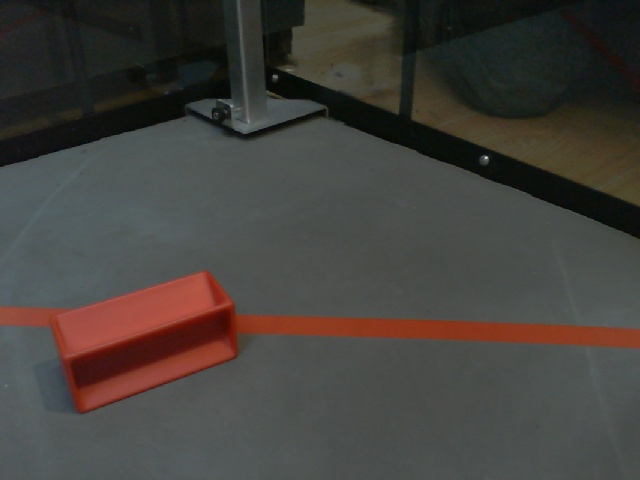RedSample: (53, 266, 239, 417)
